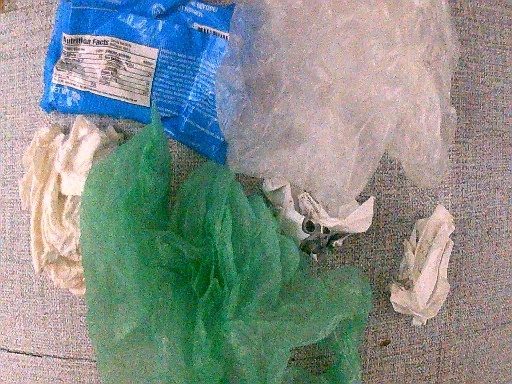paper: (384, 211, 474, 327), (270, 187, 377, 255)
plastic: (93, 138, 372, 384), (218, 1, 470, 201), (45, 1, 250, 161), (25, 95, 127, 306)
